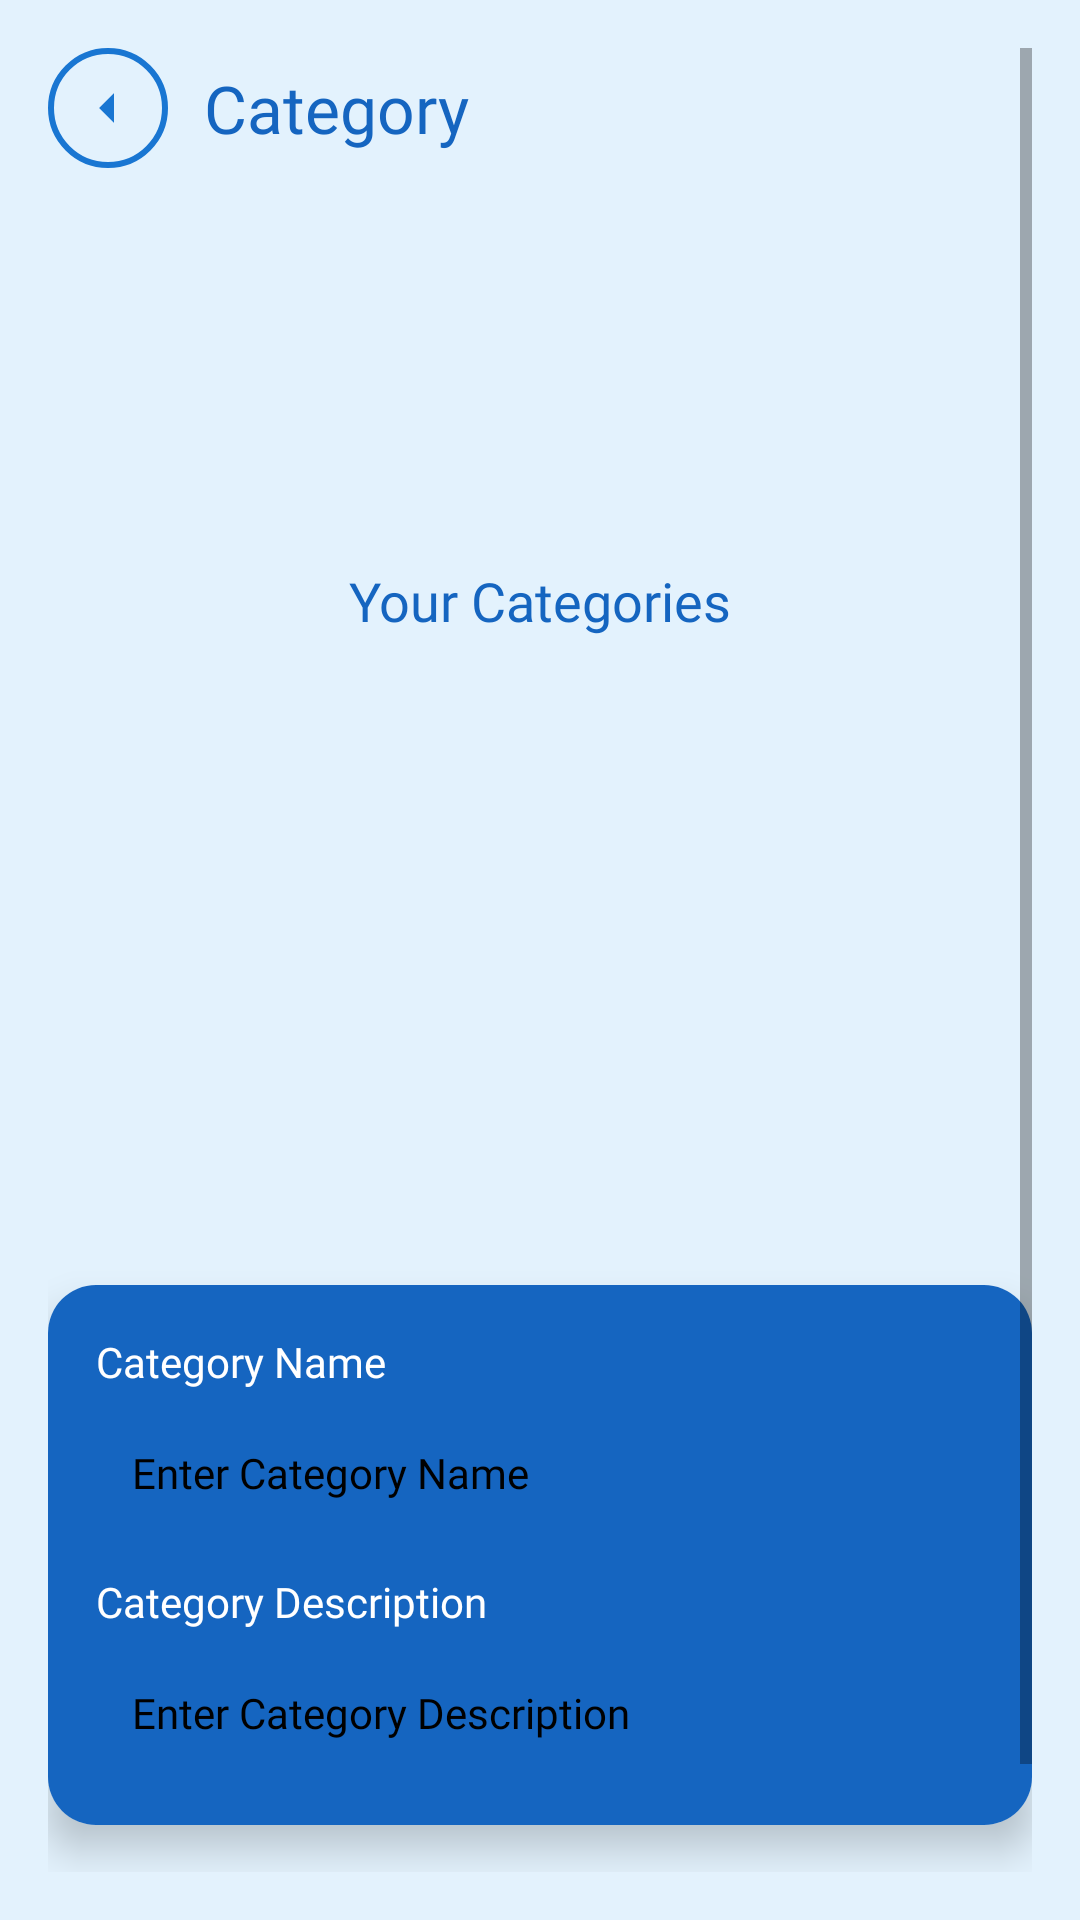

Named icons in this screenshot (1080px x 1920px) and their bounding boxes, (x1, y1, x2, y2):
Back Button: (48, 48, 168, 168)
